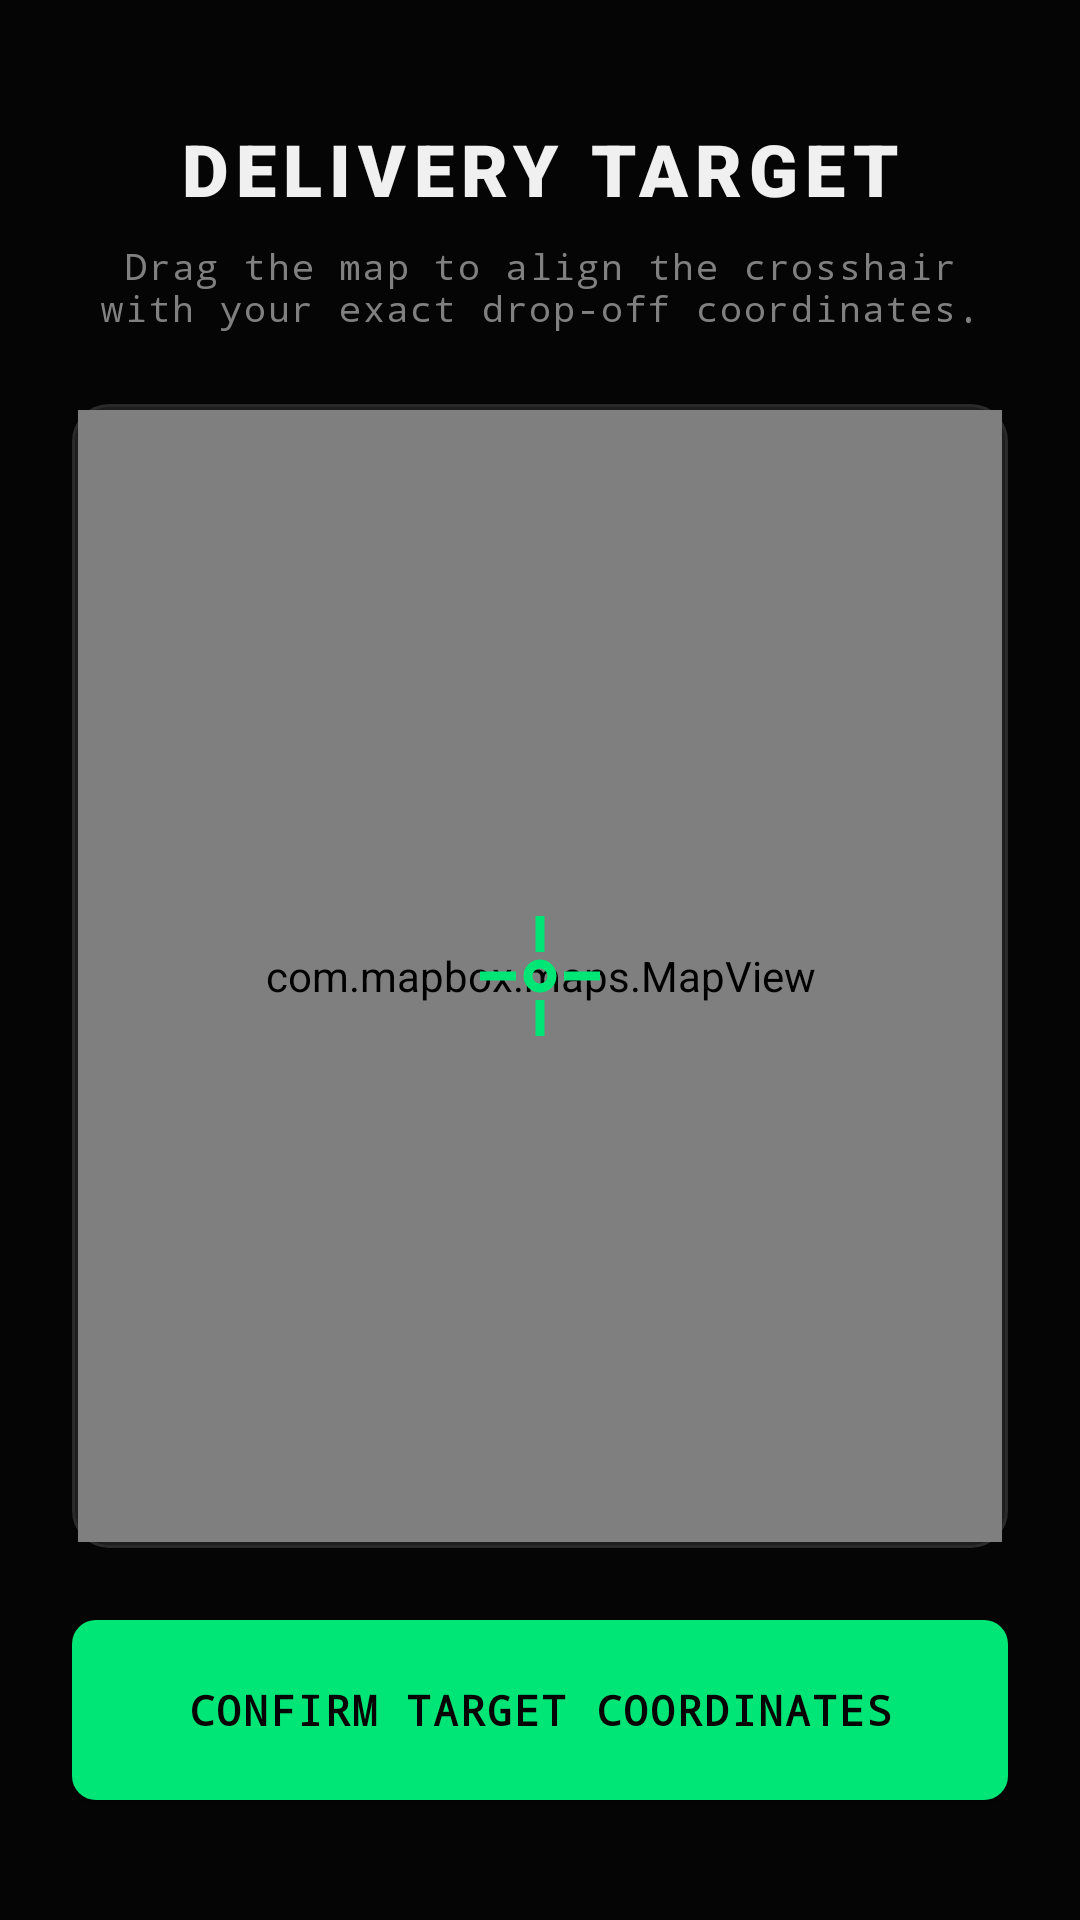

Locate icon controls on the screen. Image size 1080×1920, boxes as [left=x1, top=y1, right=x2, bottom=y2].
cyber crosshair: [left=470, top=916, right=606, bottom=1036]
